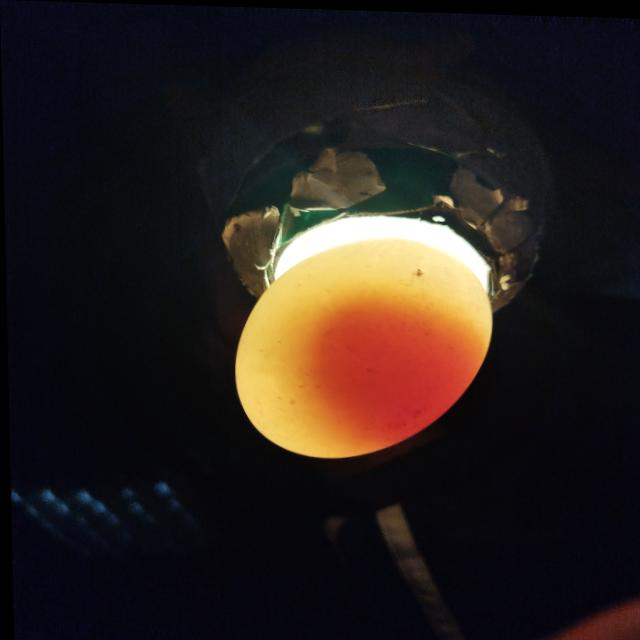Gema Quebrada: (318, 312, 470, 442)
